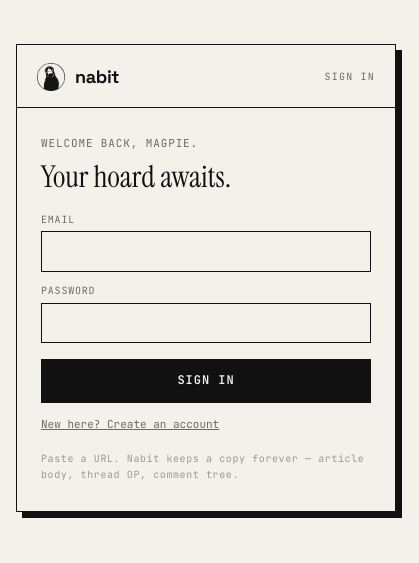
Test: LoginPage › shows the server's reason when sign-in fails
In the field labelled "Email": (206, 252) [41,231,371,272], type "me@example.com"
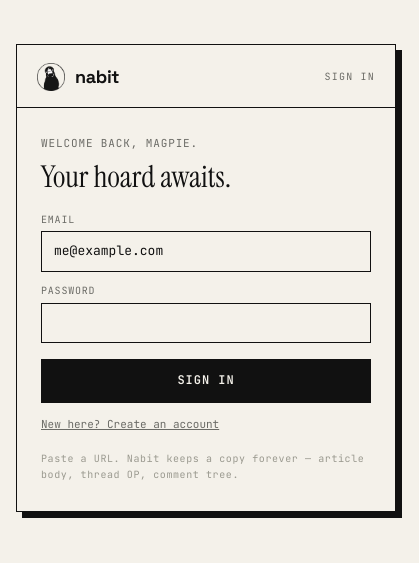
In the password field labelled "Password": (206, 323) [41,303,371,343], type "correct horse"
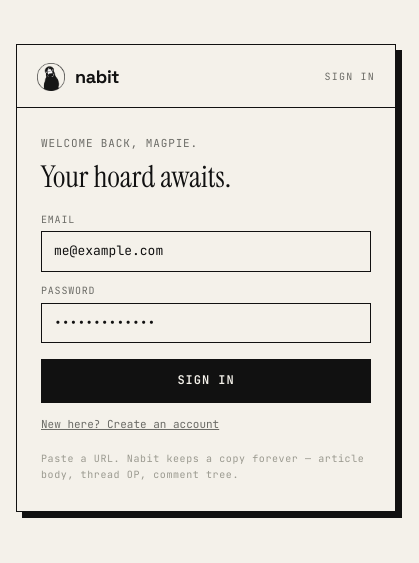
Click the button "Sign in": click(206, 381) [41,360,371,403]
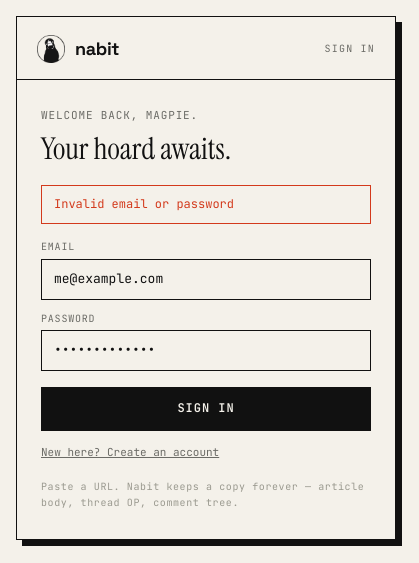
Result: the text "Invalid email or password" is shown at [41,185,371,224]
